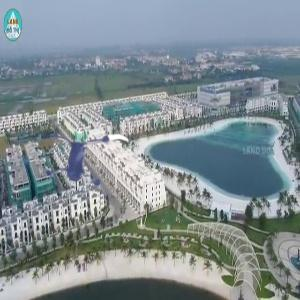drone: (34, 114, 139, 219)
